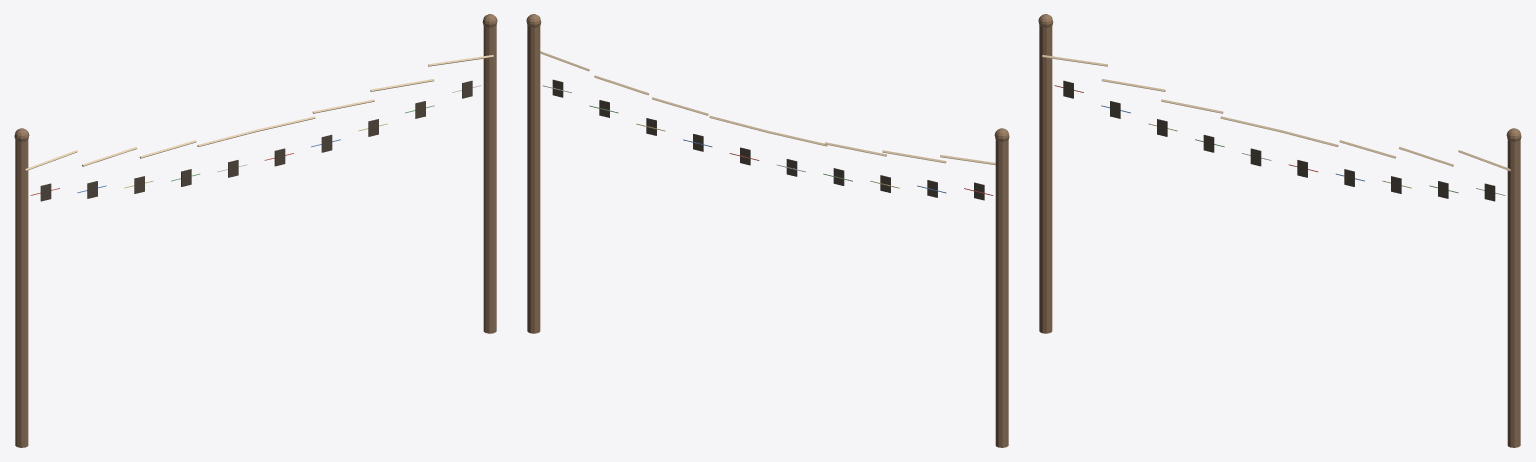
Rendered from prayer_flag_string.glb.
3 views of the same model, side by side, from view 1: azimuth 30°, elevation 25°; view 2: azimuth 150°, elevation 25°; view 3: azimuth 330°, elevation 25° (orthographic).
Visible parts, largest first — view 1: prayer_flag_string; view 2: prayer_flag_string; view 3: prayer_flag_string.
Boxes of the visible parts, <box> form: prayer_flag_string: <box>14,14,497,447</box>; prayer_flag_string: <box>526,14,1009,447</box>; prayer_flag_string: <box>1038,14,1521,447</box>.
Bounding box in the file's own units: 3.29 × 2.07 × 0.0944.
